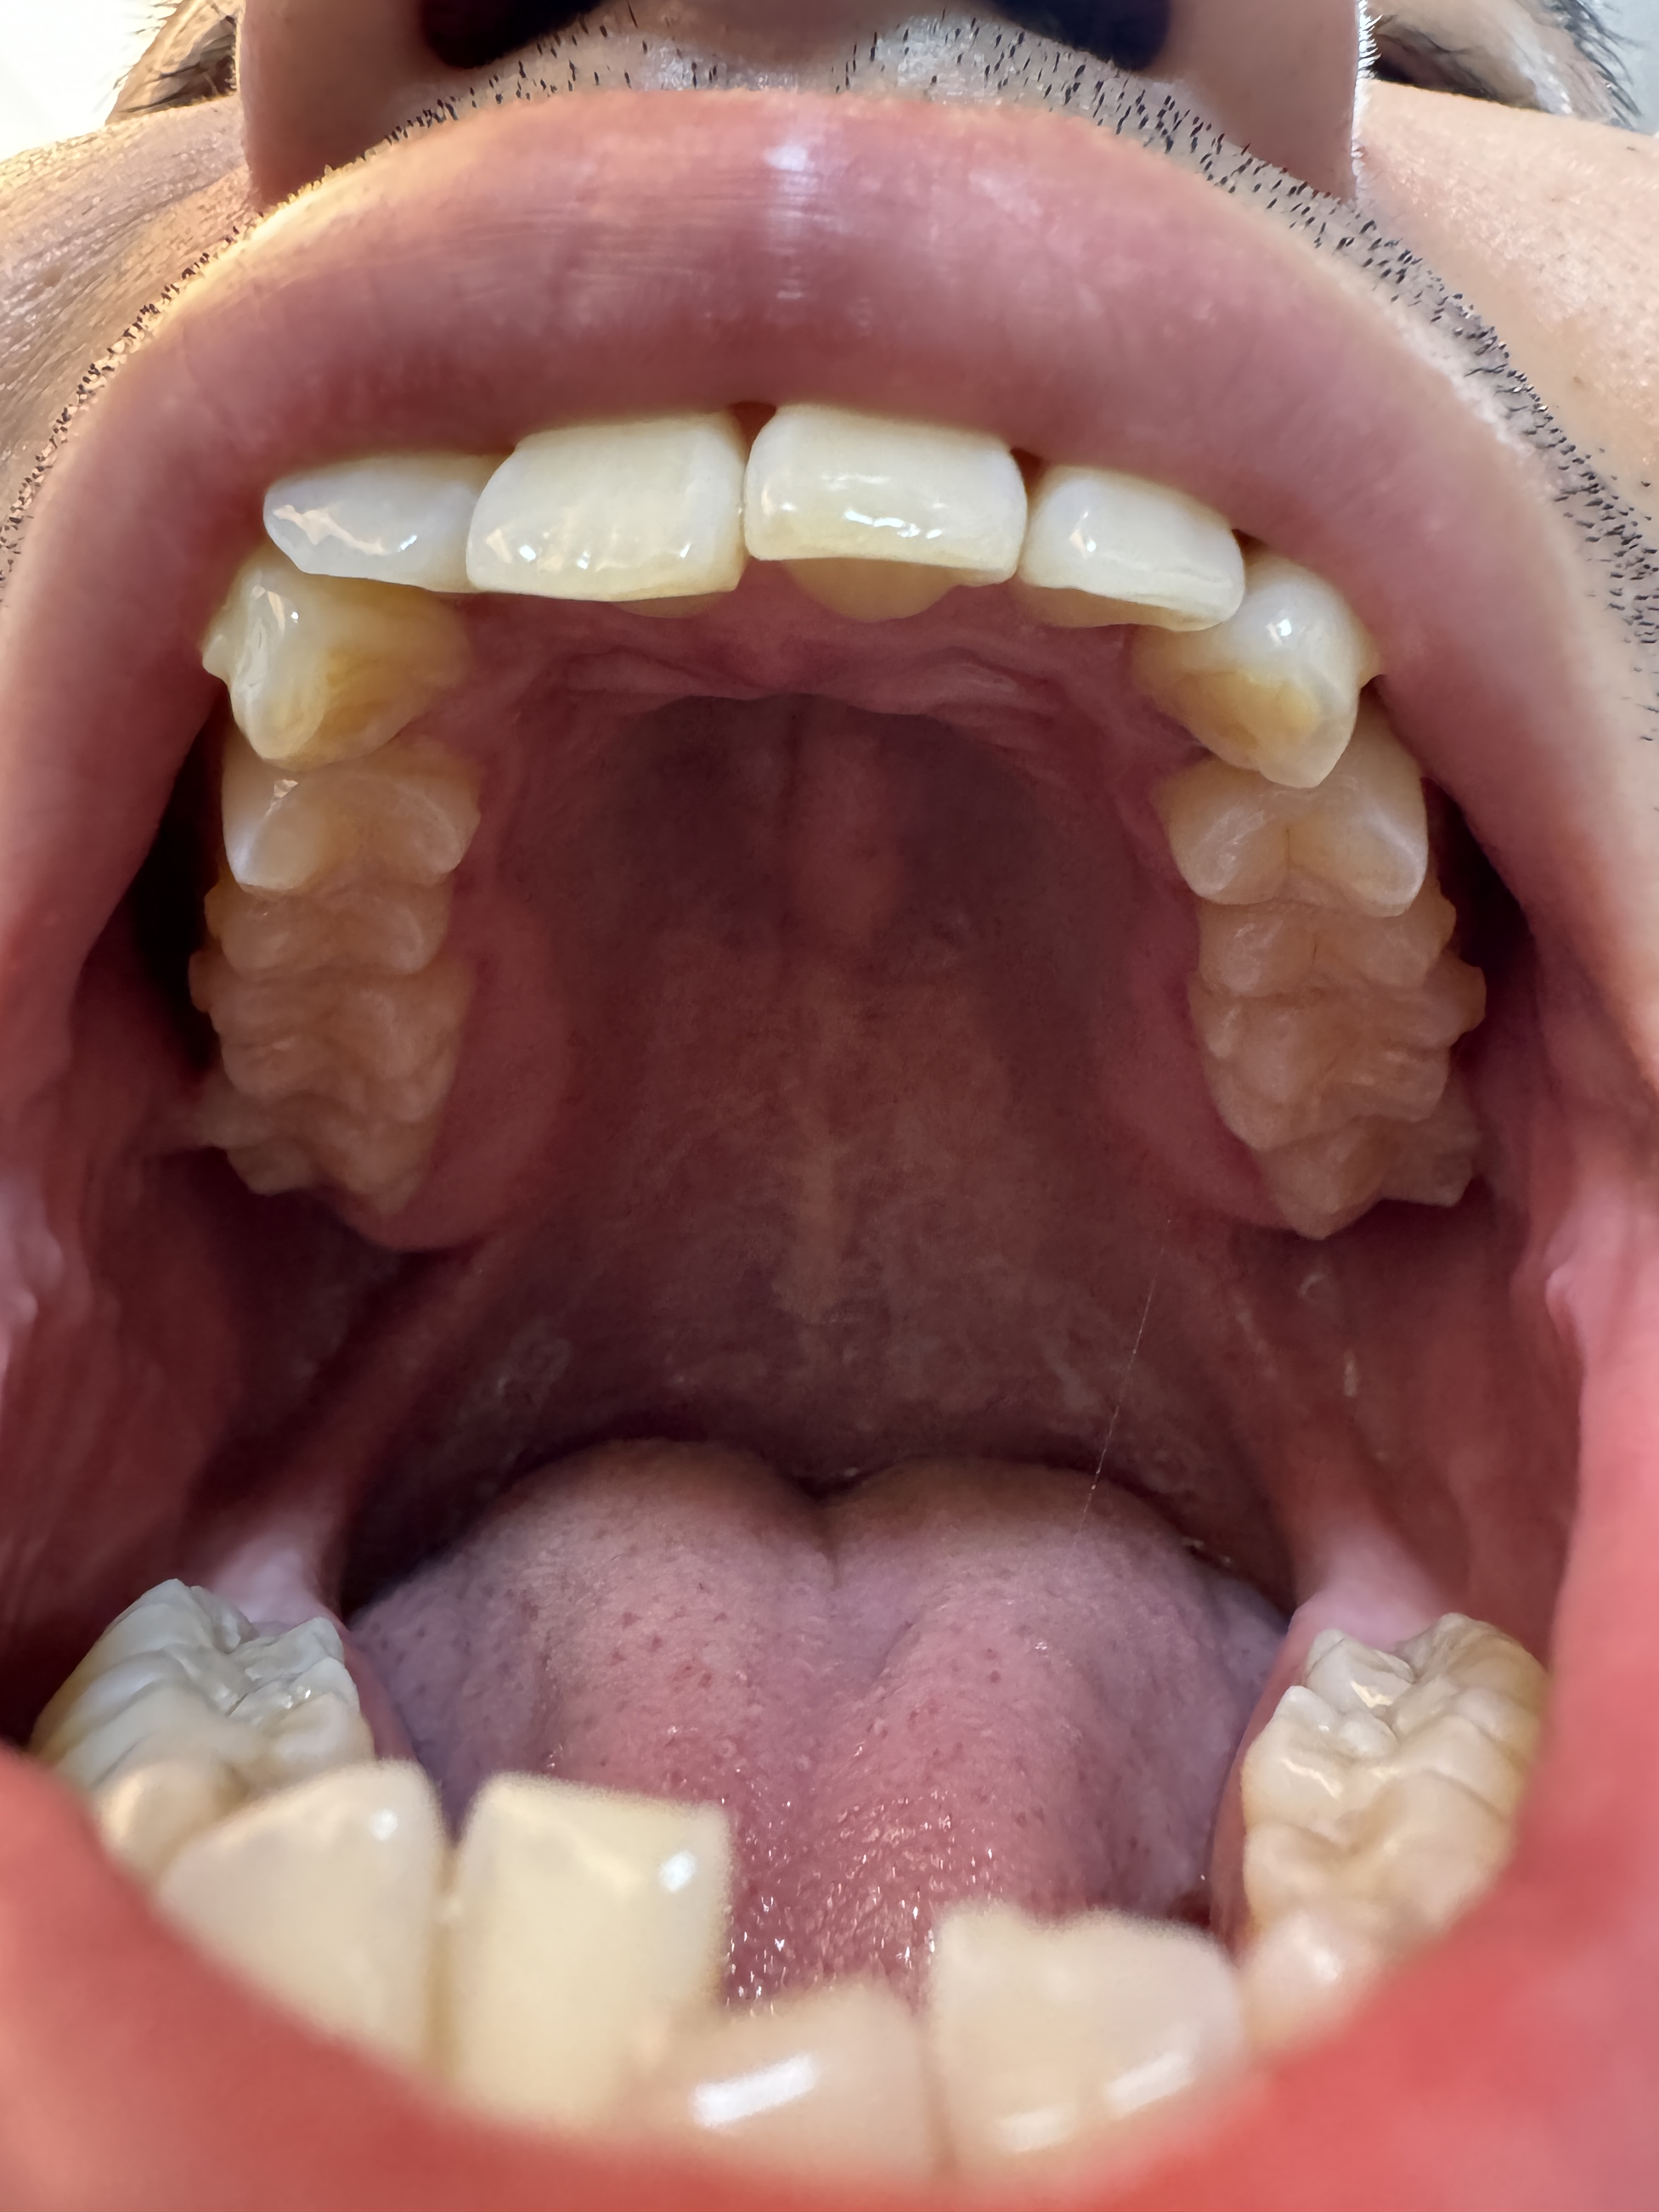teeth: (446, 1784, 716, 2128), (162, 1777, 427, 2059), (951, 1940, 1244, 2155), (1133, 542, 1368, 786), (1159, 707, 1432, 916), (755, 409, 1012, 620), (1183, 965, 1464, 1153), (1244, 1846, 1485, 2034), (30, 1575, 331, 1719), (40, 1655, 340, 1784), (258, 580, 453, 765), (476, 435, 725, 580), (655, 2020, 890, 2172), (261, 449, 498, 592), (1249, 1688, 1537, 1797), (1255, 1777, 1504, 1902), (1023, 470, 1229, 620), (1263, 1104, 1481, 1244), (220, 974, 444, 1096), (1206, 887, 1446, 1000), (113, 1754, 362, 1858), (92, 1702, 371, 1789), (249, 772, 446, 878), (1307, 1606, 1525, 1688), (197, 1118, 418, 1197), (227, 890, 418, 963)
